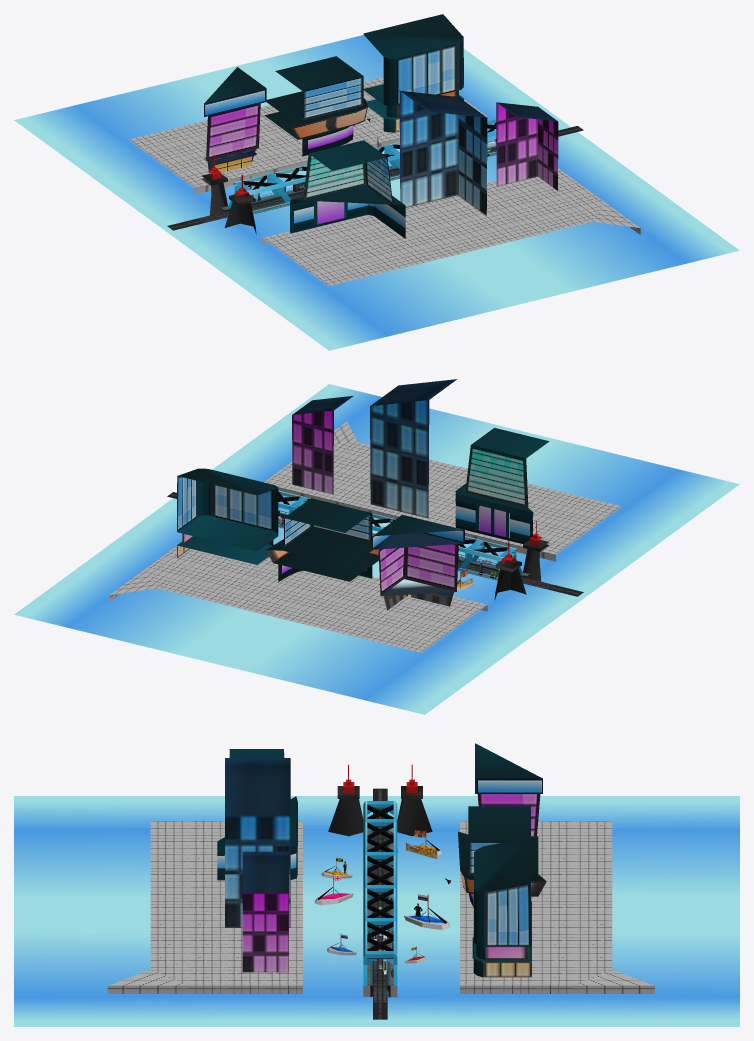
The model's file is subwaysurferstest85.glb.
3 renders of one model, top to bottom at view 1: azimuth 30°, elevation 25°; view 2: azimuth 150°, elevation 25°; view 3: azimuth 270°, elevation 25°, orthographic. The views are drawn at different scales.
Parts seen in each view (by area): view 1: Water, tile.024, building.003, building.008, tile.001, building, building.004, building.005, building.007, lighttower, Overpass.004, lighttower.001; view 2: Water, tile.001, tile.024, building, building.003, building.008, building.004, building.005, building.007, lighttower.001, Overpass.004, lighttower; view 3: Water, tile.024, tile.001, building, building.003, building.007, building.004, building.005, building.008, lighttower, lighttower.001, Overpass (+5 smaller).
Boxes of the visible parts, x1=… form: Water: x1=14, y1=35, x2=739, y2=350; tile.024: x1=262, y1=168, x2=640, y2=285; building.003: x1=399, y1=90, x2=487, y2=215; building.008: x1=290, y1=140, x2=405, y2=238; tile.001: x1=128, y1=77, x2=487, y2=194; building: x1=363, y1=14, x2=463, y2=132; building.004: x1=264, y1=56, x2=367, y2=156; building.005: x1=204, y1=67, x2=266, y2=172; building.007: x1=496, y1=102, x2=558, y2=190; lighttower: x1=224, y1=175, x2=256, y2=234; Overpass.004: x1=227, y1=173, x2=290, y2=207; lighttower.001: x1=201, y1=154, x2=227, y2=215; Water: x1=14, y1=384, x2=739, y2=714; tile.001: x1=109, y1=546, x2=487, y2=652; tile.024: x1=264, y1=421, x2=621, y2=561; building: x1=177, y1=468, x2=278, y2=564; building.003: x1=370, y1=379, x2=457, y2=518; building.008: x1=455, y1=428, x2=549, y2=544; building.004: x1=266, y1=498, x2=379, y2=581; building.005: x1=372, y1=515, x2=464, y2=610; building.007: x1=292, y1=395, x2=353, y2=494; lighttower.001: x1=494, y1=541, x2=526, y2=600; Overpass.004: x1=458, y1=539, x2=523, y2=573; lighttower: x1=523, y1=521, x2=548, y2=581; Water: x1=14, y1=796, x2=739, y2=1026; tile.024: x1=107, y1=821, x2=302, y2=993; tile.001: x1=460, y1=821, x2=654, y2=993; building: x1=472, y1=837, x2=531, y2=977; building.003: x1=225, y1=758, x2=290, y2=927; building.007: x1=242, y1=851, x2=288, y2=972; building.004: x1=458, y1=806, x2=546, y2=907; building.005: x1=475, y1=743, x2=542, y2=836; building.008: x1=217, y1=749, x2=297, y2=880; lighttower: x1=328, y1=764, x2=363, y2=836; lighttower.001: x1=397, y1=764, x2=432, y2=836; Overpass: x1=363, y1=921, x2=397, y2=985.
Size of the model in its own units: 562 by 169 by 744.
4 materials, 4 textured.
